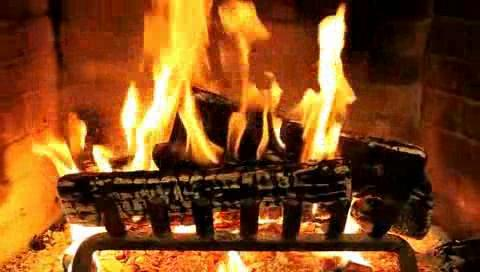fire: (112, 2, 353, 171)
